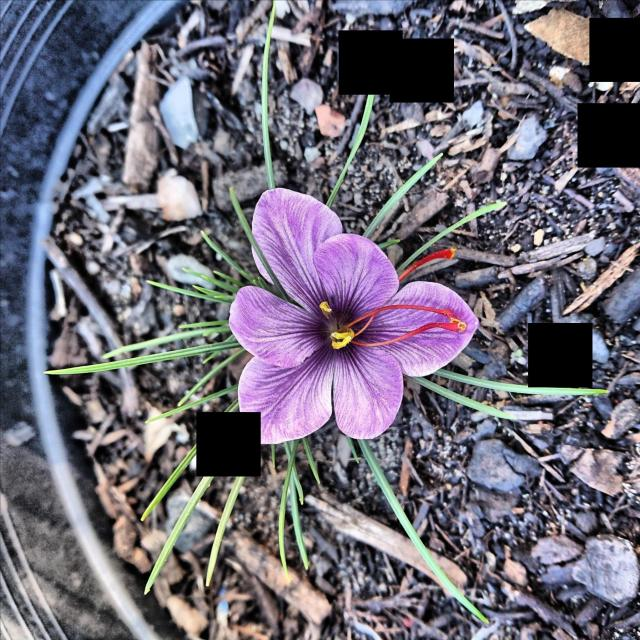Flower: (211, 186, 480, 448)
stigma: (345, 319, 468, 348), (344, 301, 470, 329), (396, 245, 457, 282)
